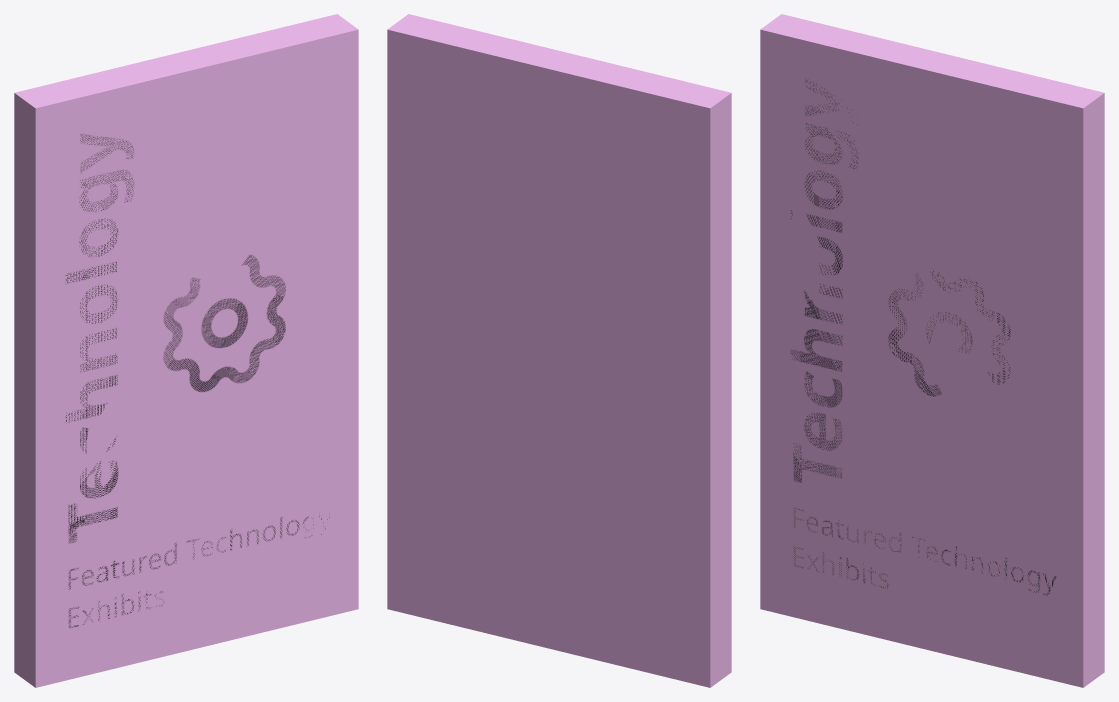
The model's file is lobby_plaque.obj.
The picture shows the model from 3 angles, left to right: view 1: azimuth 30°, elevation 25°; view 2: azimuth 150°, elevation 25°; view 3: azimuth 330°, elevation 25°; orthographic projection.
Visible parts, largest first — view 1: Cube; view 2: Cube; view 3: Cube.
Boxes of the visible parts, x1,y1,x2,y2 form: Cube: (14, 14, 358, 687); Cube: (387, 14, 731, 687); Cube: (760, 14, 1104, 687).
Size of the model in its own units: 1.75 by 3 by 0.2.
